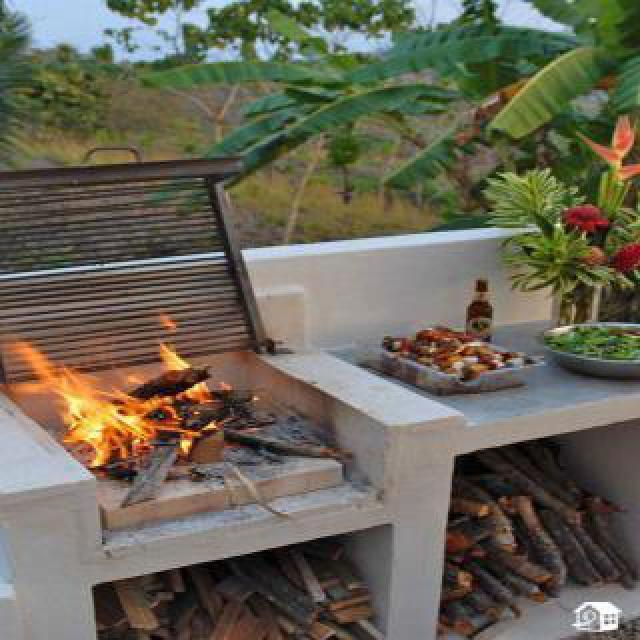zfire: (20, 298, 216, 456)
